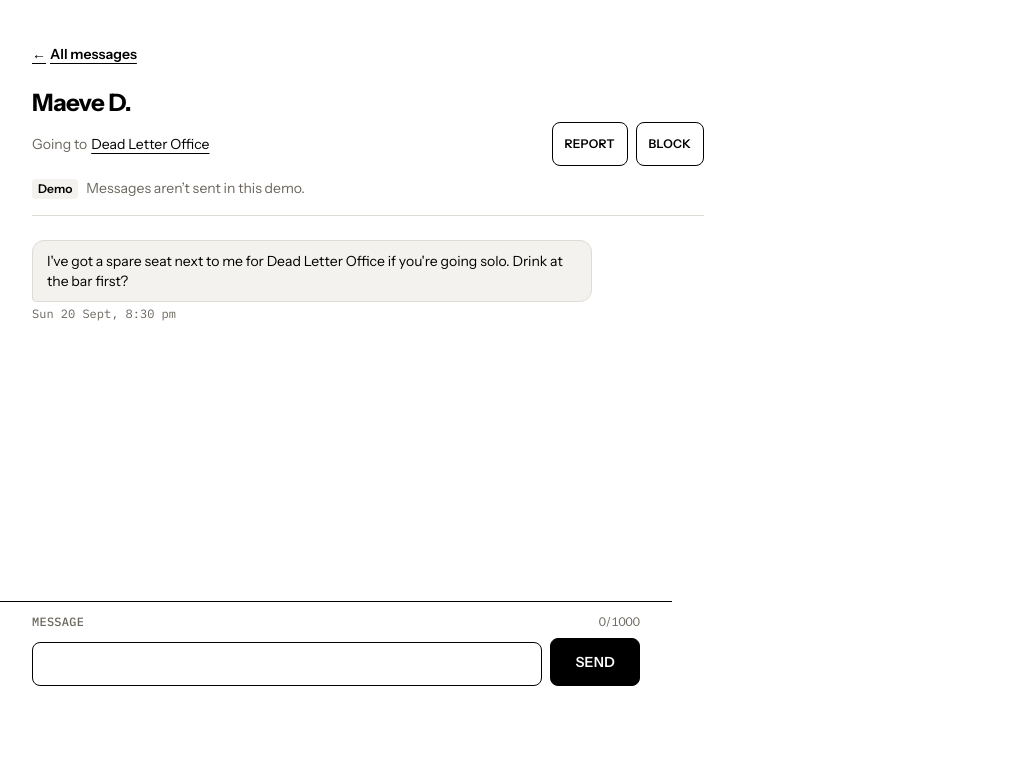
/messages/[conversationId] (demo) › Block and Report say what would happen, and change nothing
Click the button "Block" at {"x": 670, "y": 144}, box x1=636 y1=122 x2=704 y2=166
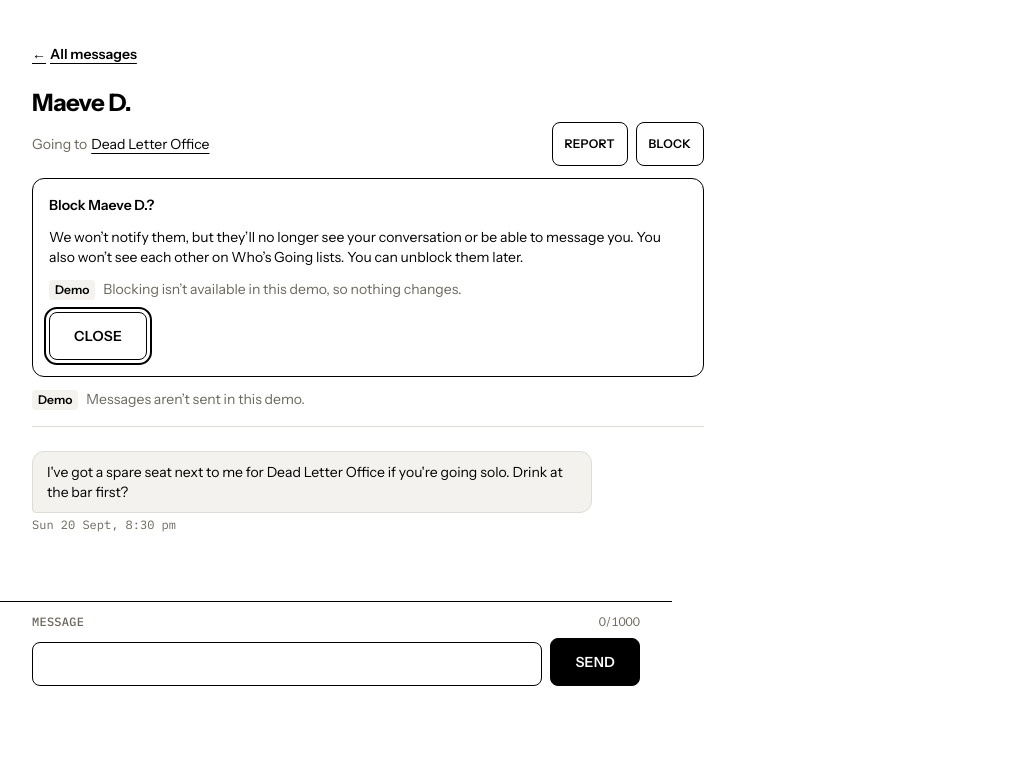
Check: the text "Blocking isn’t available in this demo" is shown, box x1=103 y1=280 x2=462 y2=298
Click the button "Close" at {"x": 98, "y": 336}, box x1=49 y1=312 x2=147 y2=360
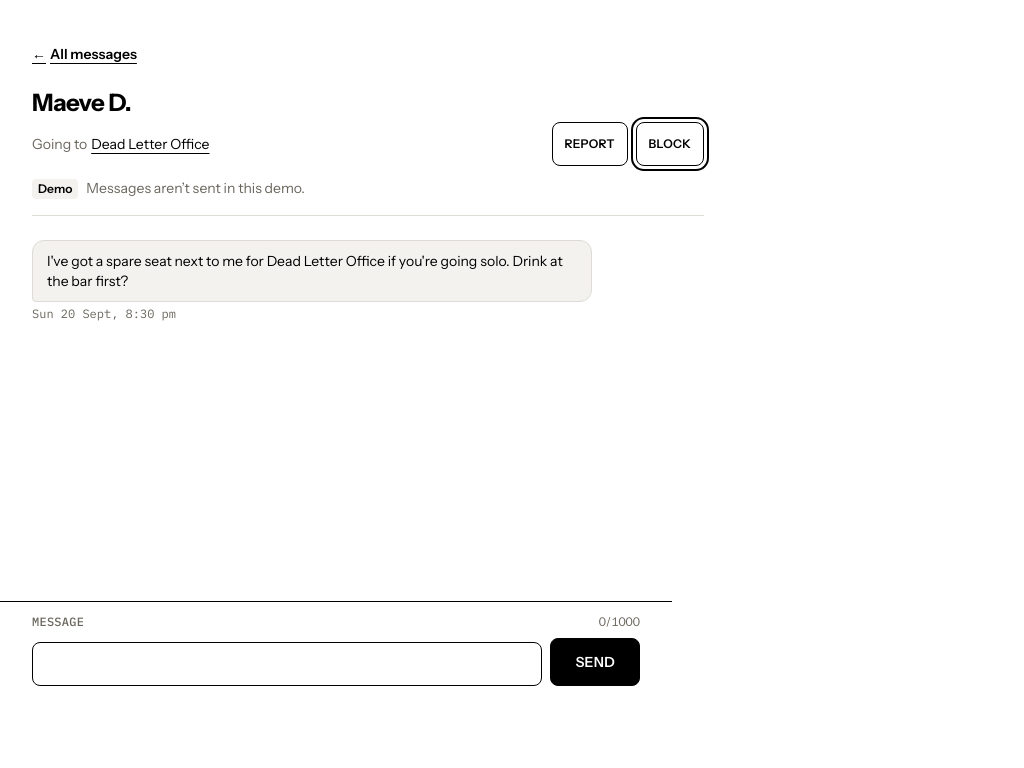
Click the button "Report" at {"x": 590, "y": 144}, box x1=552 y1=122 x2=628 y2=166
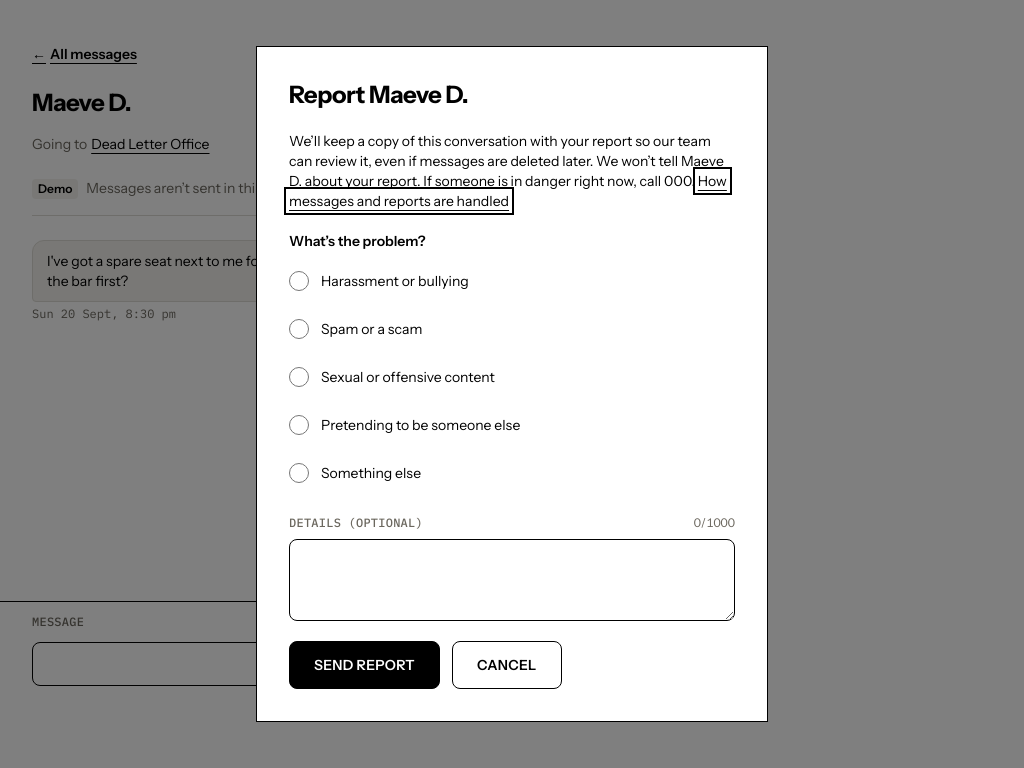
Click the radio button labelled "Harassment or bullying" at {"x": 299, "y": 281}, box x1=289 y1=271 x2=309 y2=291
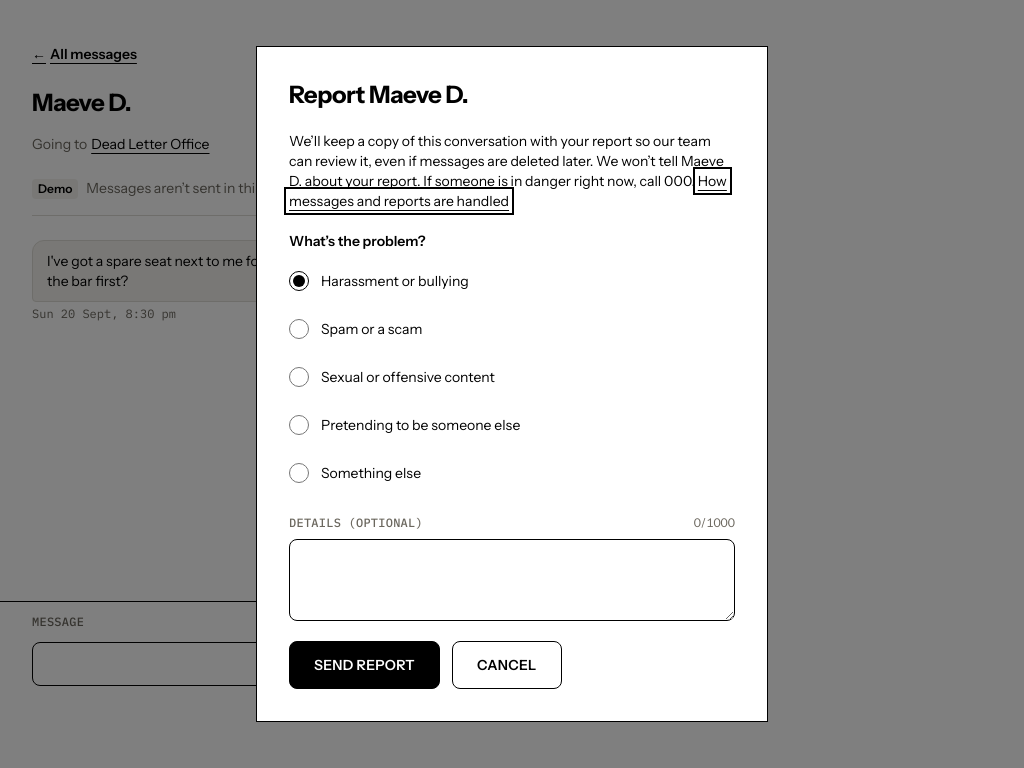
Click the button "Send report" at {"x": 364, "y": 665}, box x1=289 y1=641 x2=440 y2=689
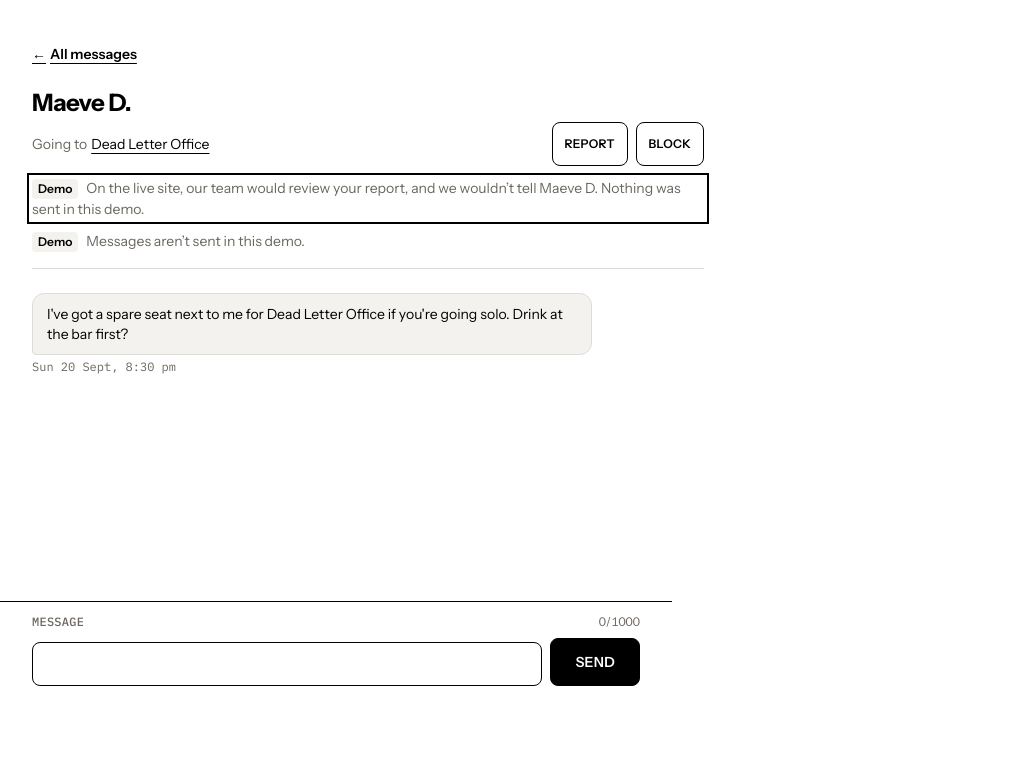
Check: the list named "Messages with Maeve D." is shown, box x1=31 y1=293 x2=592 y2=374
Check: the text "Nothing was sent in this demo." is shown, box x1=32 y1=179 x2=681 y2=218
